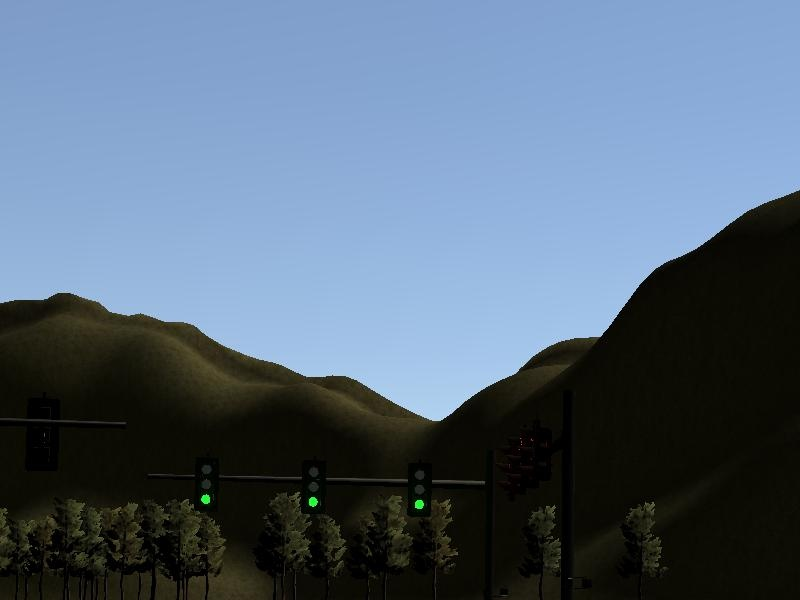GREEN: (302, 465, 325, 513), (194, 462, 216, 508), (410, 469, 431, 514)
